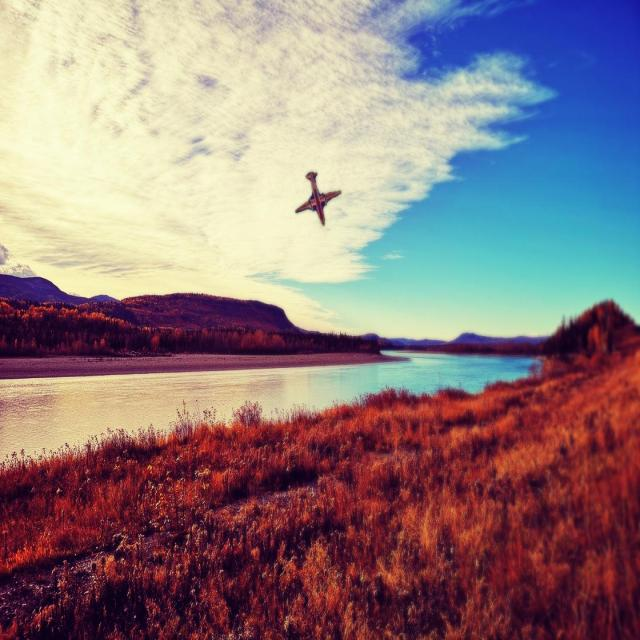airplane: (295, 170, 341, 226)
